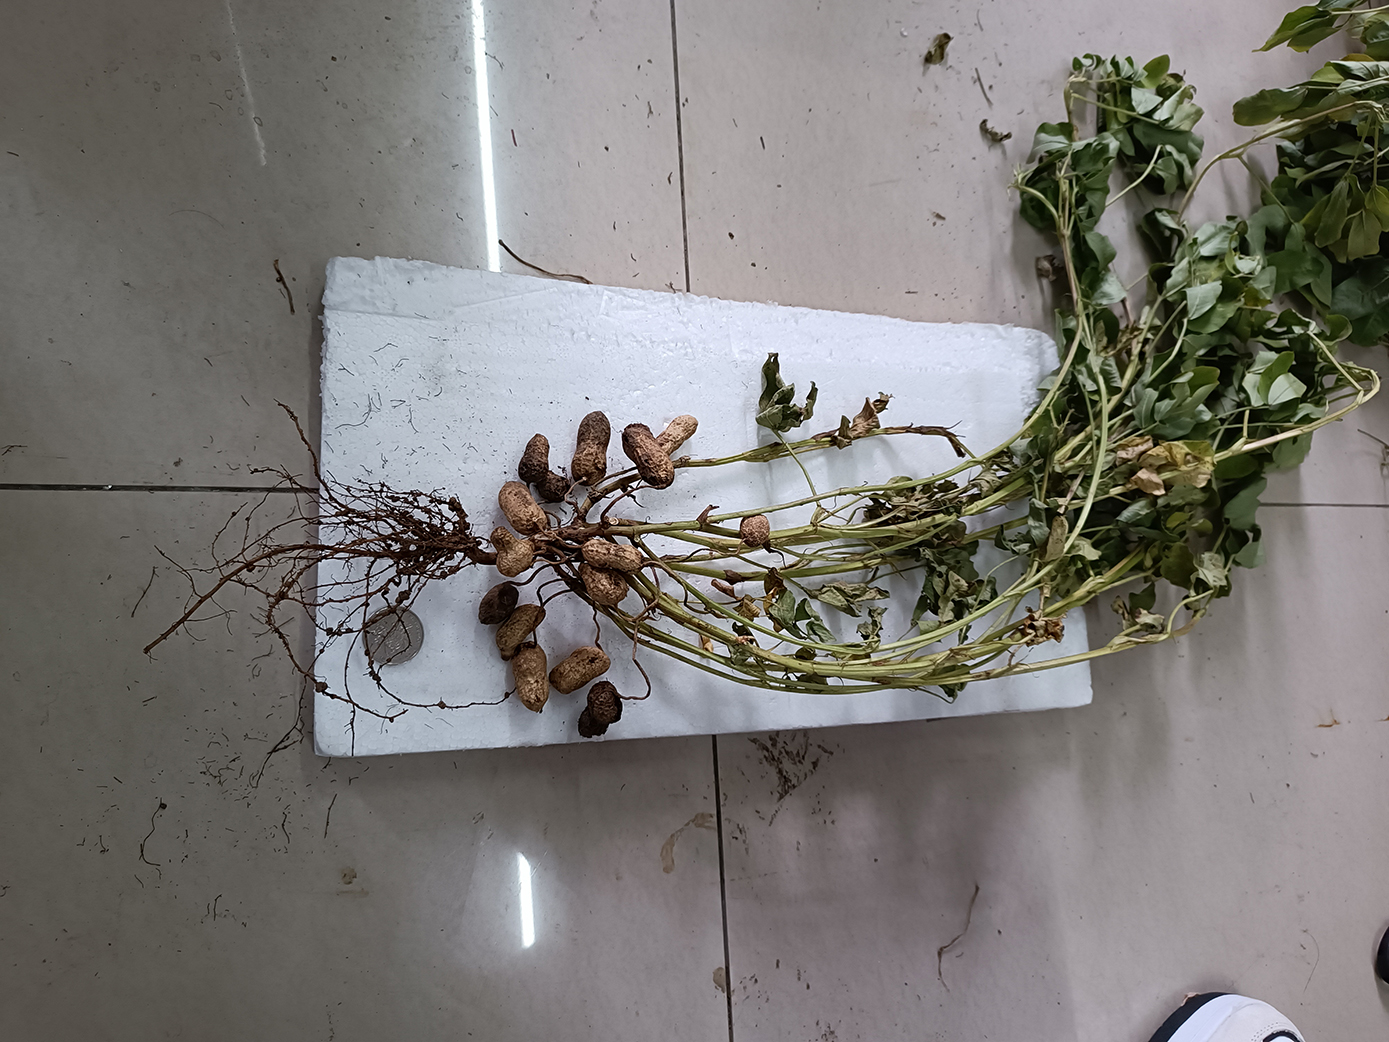h: (496, 604, 547, 661), (549, 647, 612, 693), (499, 481, 548, 536), (512, 641, 549, 713), (491, 526, 534, 577), (582, 539, 643, 574), (579, 565, 629, 605), (657, 415, 699, 456), (740, 516, 769, 548)
l: (621, 422, 675, 488), (571, 410, 611, 487), (577, 679, 624, 739), (479, 582, 519, 625), (518, 432, 549, 482), (534, 468, 569, 503)
